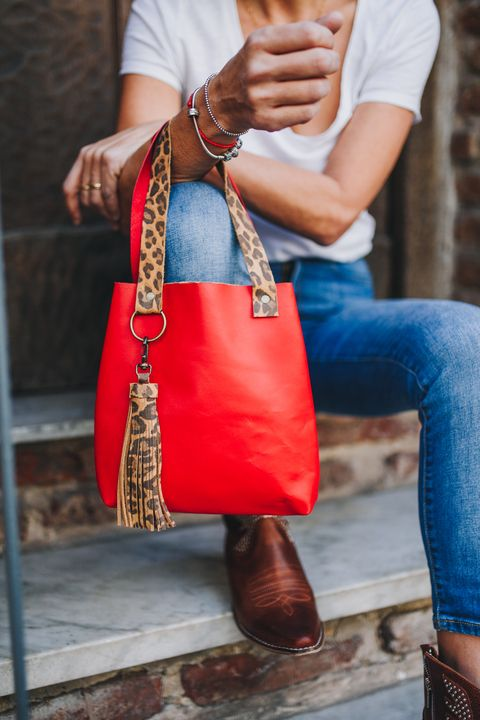cuero: (93, 122, 319, 516)
